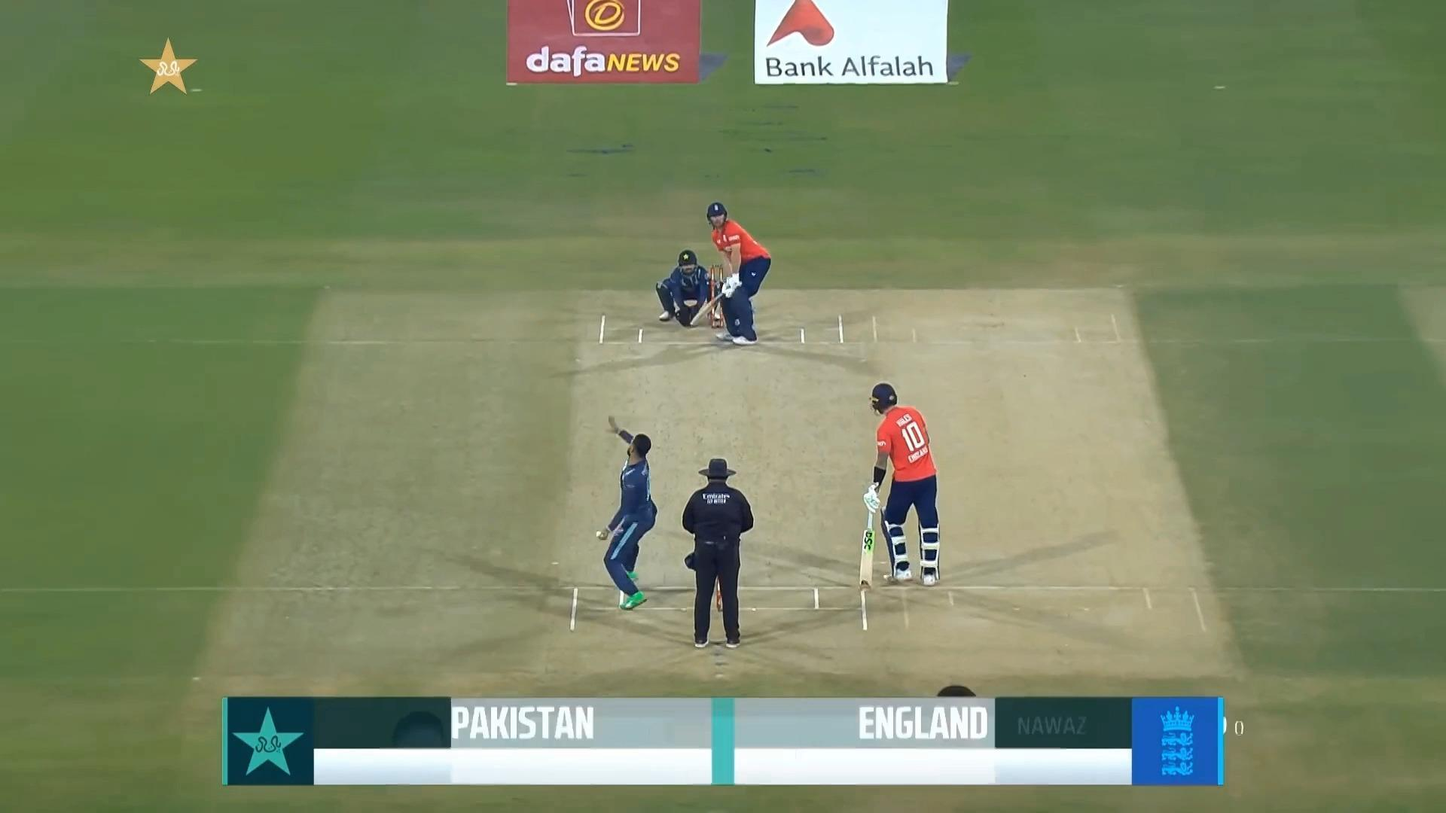BM 1: (690, 202, 771, 346)
BO: (599, 416, 657, 610)
